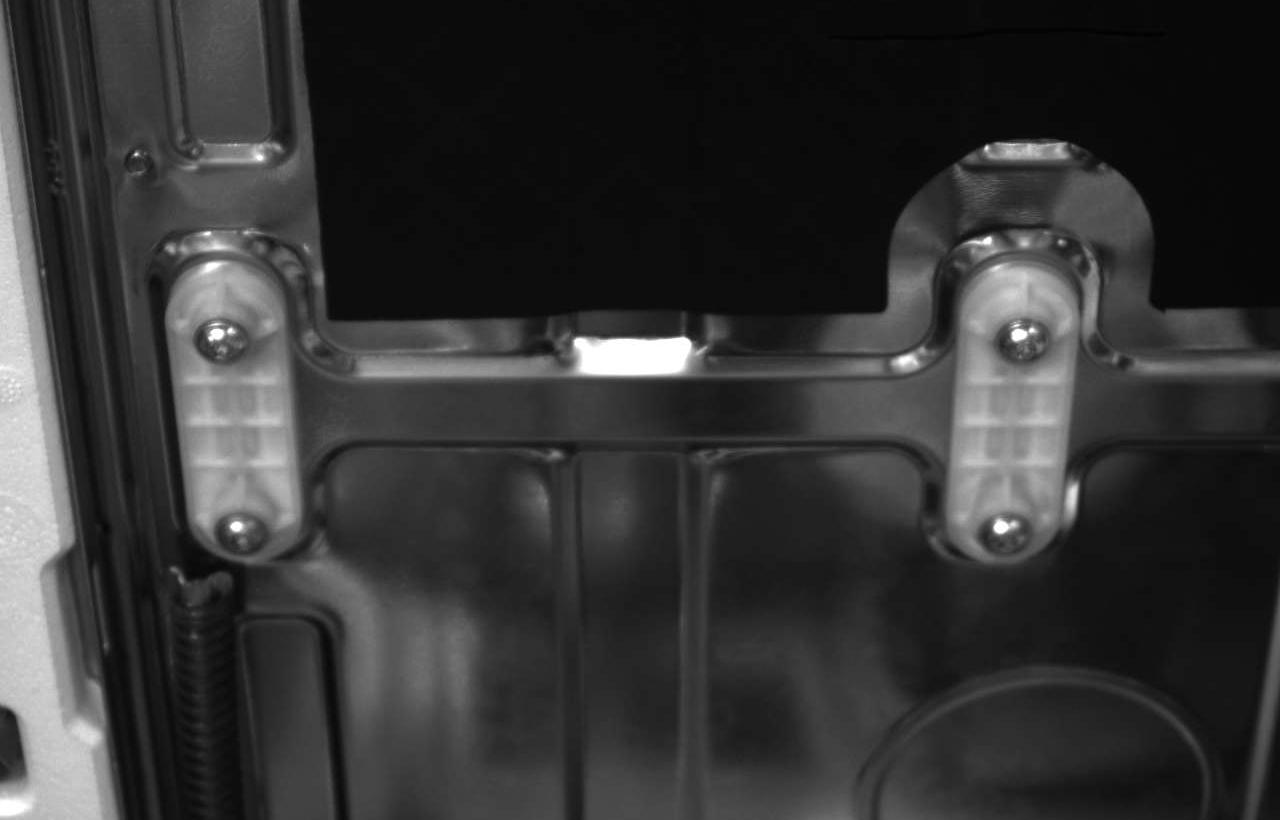vida-ok: (174, 316, 261, 393), (987, 306, 1075, 378), (200, 504, 281, 568), (973, 506, 1049, 565)
